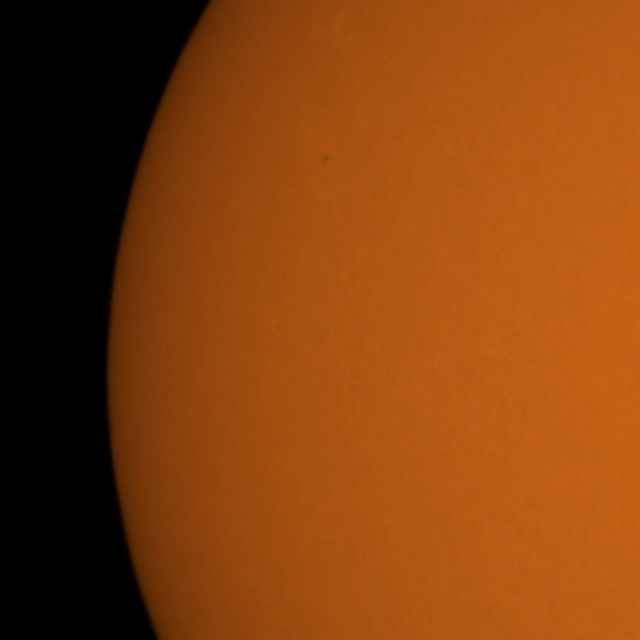sunspot: (319, 151, 332, 166)
